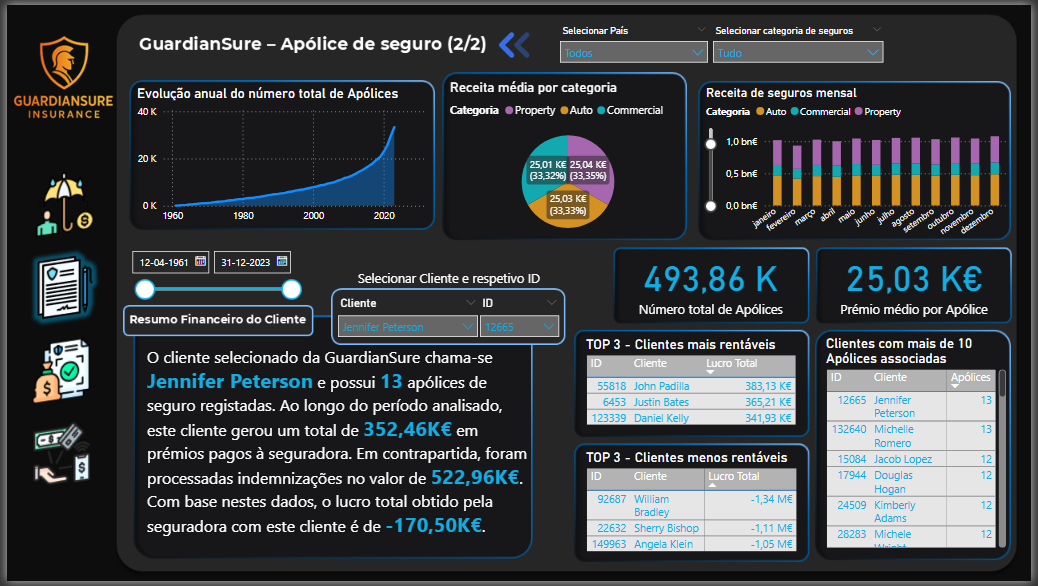

Layout of this report page (visuals, bound fields, positions):
{"tool":"powerbi","page":{"name":"Apólice de Seguro (2/2)","canvas":[1280,720],"ordinal":3},"visuals":[{"type":"columnChart","title":"Receita de seguros mensal","fields":{"Category":["dim_Calendário.Nome do Mês"],"Y":["Medidas.X_Valor total recebido(prémios)"],"Series":["fact_PolicyDetails.Product"]},"box":[868.2,100.4,386.7,199.6],"z":0},{"type":"lineChart","title":"Evolução anual do número total de Apólices","fields":{"Category":["dim_Calendário.Ano"],"Y":["Medidas.X_Número total de apólices"]},"box":[157.9,100,376.4,181.4],"z":1000},{"type":"slicer","fields":{"Values":["dim_Calendário.Date"]},"box":[144.3,297.9,232.9,76.4],"z":2000},{"type":"slicer","fields":{"Values":["dim_PolicyHolderDetails.Todos os Paises","dim_PolicyHolderDetails.Country"]},"box":[681.4,20,205,57.1],"z":3000},{"type":"slicer","fields":{"Values":["fact_PolicyDetails.Product"]},"box":[872.1,20,232.9,58.6],"z":4000},{"type":"pieChart","title":"Receita média por categoria","fields":{"Y":["Medidas.Prémio Médio"],"Category":["fact_PolicyDetails.Product"]},"box":[549,92,305,209],"z":5000},{"type":"enlightenDataStoryDDFB78A6143E42CFAFBC50CCF18D978D","fields":{"measure":["Min(dim_PolicyHolderDetails.PolicyHolderName)","Medidas.X_Número total de apólices","Medidas.X_Valor total recebido(prémios)","Medidas.X_Valor total indemnizado","Medidas.Lucro Total"]},"box":[170,420,491.2,275],"z":6000},{"type":"slicer","fields":{"Values":["dim_PolicyHolderDetails.PolicyHolderID"]},"box":[581.4,360,118.6,61.4],"z":7000},{"type":"slicer","fields":{"Values":["dim_PolicyHolderDetails.PolicyHolderName"]},"box":[403.6,360,195,62.9],"z":8000},{"type":"card","fields":{"Values":["Medidas.X_Número total de apólices"]},"box":[765,297.9,230,99.3],"z":9000},{"type":"card","fields":{"Values":["Medidas.Prémio Médio"]},"box":[1020.3,298.4,228.2,98.3],"z":10000},{"type":"textbox","box":[433.5,324.4,248.1,32.7],"z":11000},{"type":"actionButton","box":[610,28.6,50.7,40],"z":12000},{"type":"actionButton","box":[22.5,192.5,100,107.5],"z":13000},{"type":"actionButton","box":[22.5,400.8,100,107.5],"z":14000},{"type":"actionButton","box":[22.5,508.3,100,107.5],"z":15000},{"type":"tableEx","title":"Clientes com mais de 10 Apólices associadas","fields":{"Values":["dim_PolicyHolderDetails.PolicyHolderID","dim_PolicyHolderDetails.PolicyHolderName","Medidas.X_Número total de apólices"]},"box":[1018.6,412.9,235,270.7],"z":16000},{"type":"tableEx","title":"TOP 3 - Clientes menos rentáveis","fields":{"Values":["dim_PolicyHolderDetails.PolicyHolderID","dim_PolicyHolderDetails.PolicyHolderName","Medidas.Lucro Total"]},"box":[718.8,555,273.8,137.5],"z":17000},{"type":"tableEx","title":"TOP 3 - Clientes mais rentáveis","fields":{"Values":["dim_PolicyHolderDetails.PolicyHolderID","dim_PolicyHolderDetails.PolicyHolderName","Medidas.Lucro Total"]},"box":[718.8,413.8,281.2,123.8],"z":18000},{"type":"actionButton","box":[37.5,38.6,66.1,71.6],"z":19000}]}

Visuals, with their boxes in screenshot pixels (x1, y1, x2, y2), scaled from the page's 1280x720 canvas onto the 1038x586 screenshot:
"Receita de seguros mensal" columnChart: 704,82,1018,244
"Evolução anual do número total de Apólices" lineChart: 128,81,433,229
slicer - dim_Calendário.Date: 117,242,306,305
slicer - dim_PolicyHolderDetails.Todos os Paises x dim_PolicyHolderDetails.Country: 553,16,719,63
slicer - fact_PolicyDetails.Product: 707,16,896,64
"Receita média por categoria" pieChart: 445,75,693,245
enlightenDataStoryDDFB78A6143E42CFAFBC50CCF18D978D - Min(dim_PolicyHolderDetails.PolicyHolderName) x Medidas.X_Número total de apólices: 138,342,536,566
slicer - dim_PolicyHolderDetails.PolicyHolderID: 471,293,568,343
slicer - dim_PolicyHolderDetails.PolicyHolderName: 327,293,485,344
card - Medidas.X_Número total de apólices: 620,242,807,323
card - Medidas.Prémio Médio: 827,243,1012,323
textbox: 352,264,553,291
actionButton: 495,23,536,56
actionButton: 18,157,99,244
actionButton: 18,326,99,414
actionButton: 18,414,99,501
"Clientes com mais de 10 Apólices associadas" tableEx: 826,336,1017,556
"TOP 3 - Clientes menos rentáveis" tableEx: 583,452,805,564
"TOP 3 - Clientes mais rentáveis" tableEx: 583,337,811,438
actionButton: 30,31,84,90
